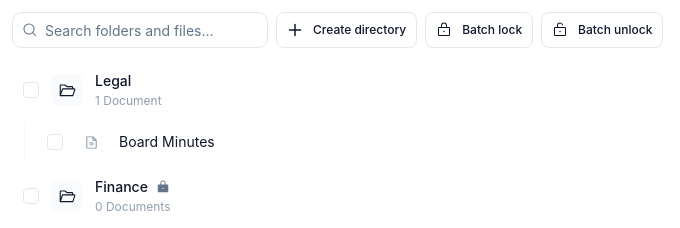
DealRoomFolderTree toolbar › filters folders by search query
Type "Finance" into the field labelled "Search folders and files…" at (140, 30), box [12,12,268,48]
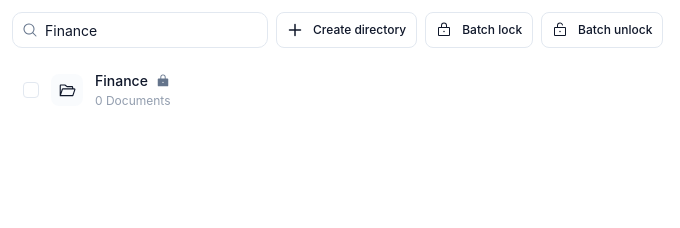
Expected: the text "Finance" is shown, [95,71,148,91]
Expected: the button "Legal" is gone
